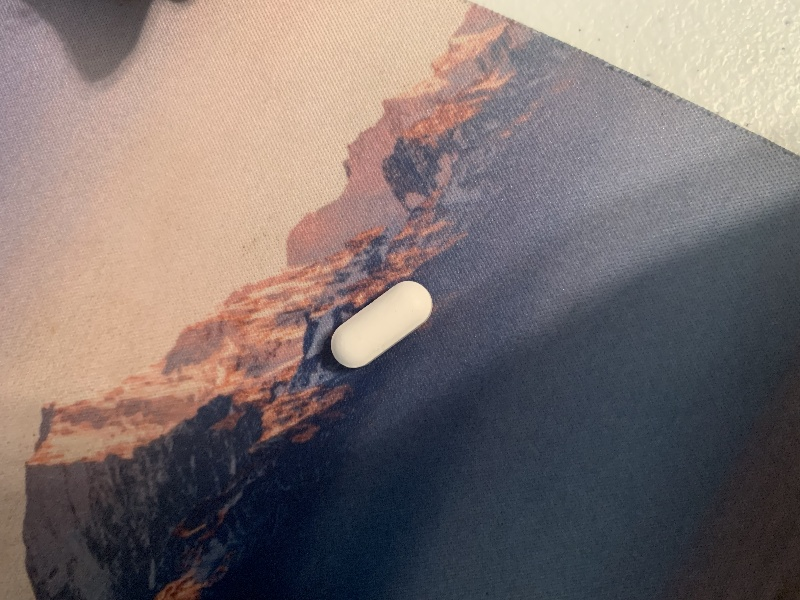Tylenol: (327, 277, 436, 371)
